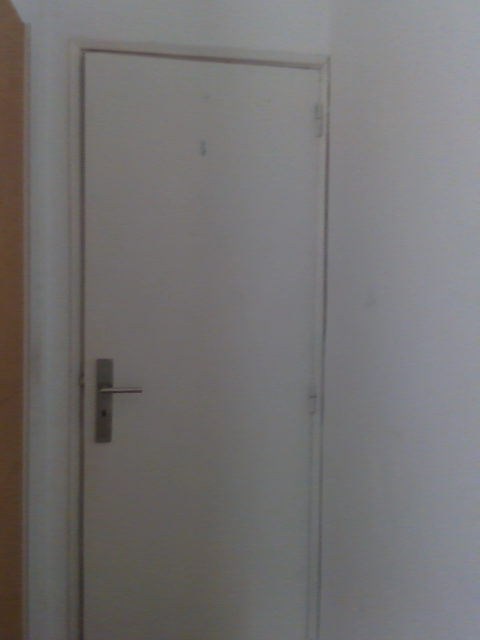closed: (70, 44, 331, 639)
